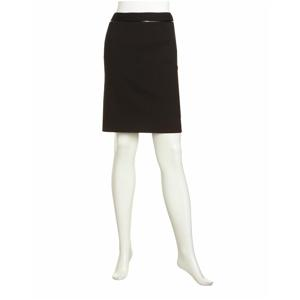F_tailored skirt: (96, 9, 190, 138)
